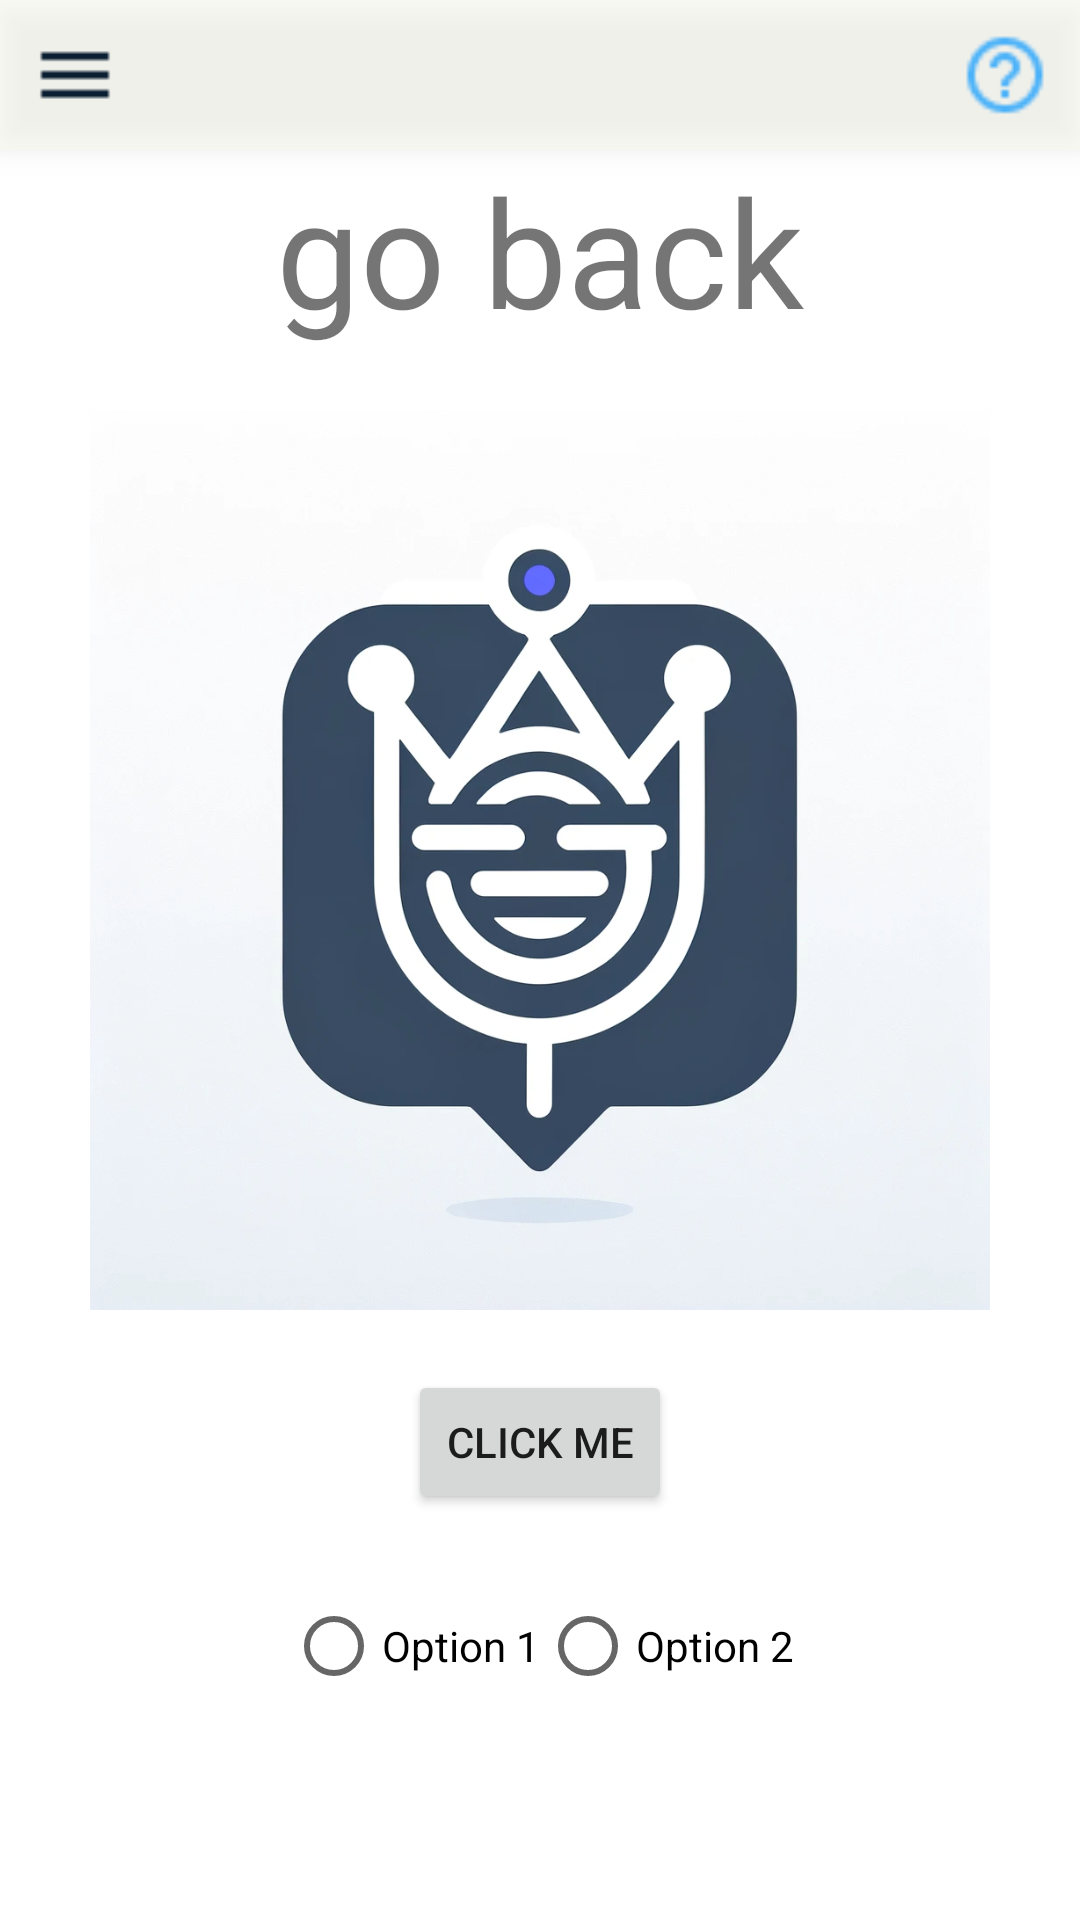

Icons on this 1080 x 1920 Android screen, each with its box as bbox=[x1, y1, x2, y2]:
drawer: bbox=[40, 51, 110, 99]
question: bbox=[966, 36, 1044, 114]
